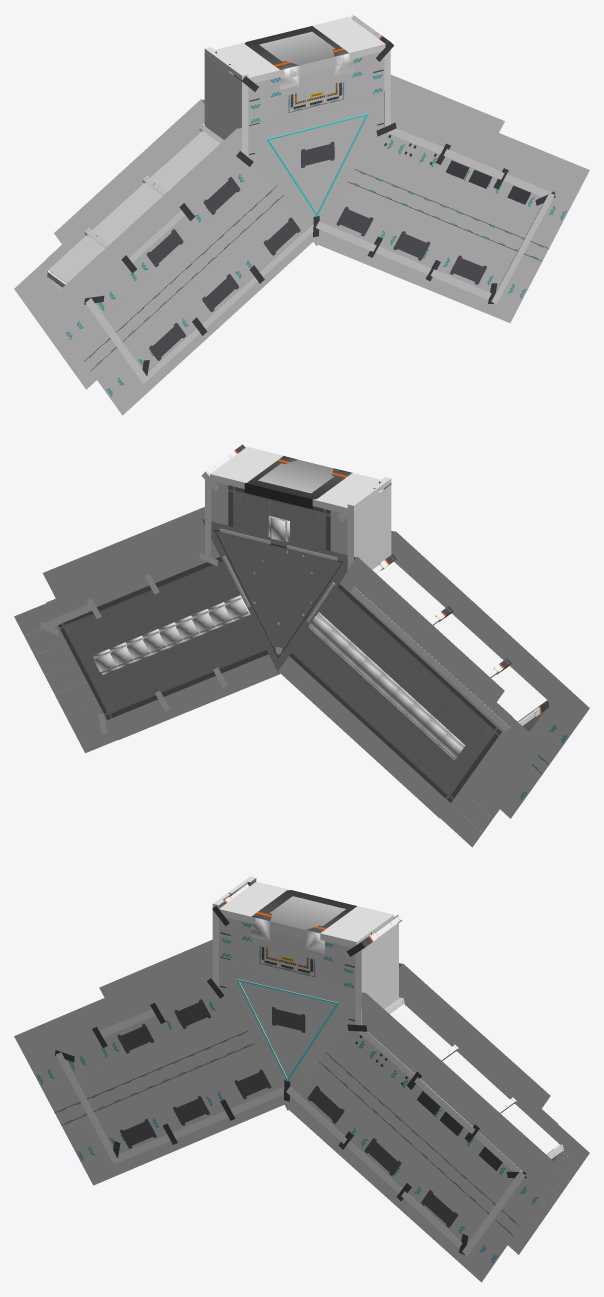
The model's file is ENV_Room1Shelves.fbx.
3 renders of one model, top to bottom at view 1: azimuth 30°, elevation 25°; view 2: azimuth 150°, elevation 25°; view 3: azimuth 330°, elevation 25°, orthographic.
Parts seen in each view (by area): view 1: Plane.039, Plane.160, Cone.002, Plane.135, Plane.137, Final Door.002, TEXTURED_WT_ExposedPanel.012, Plane.136, b.016, Plane.138, TEXTURED_WT_ExposedPanel.010, b.015 (+16 smaller); view 2: Plane.138, Plane.137, Cylinder.007, Plane.160, Plane.136, Plane.141, Plane.041, Ver3, Ver3.001, TEXTURED_WT_ExposedPanel.012, Final Door.002, b.016 (+6 smaller); view 3: Plane.039, Plane.160, Cone.002, Plane.138, Plane.135, Final Door.002, TEXTURED_WT_ExposedPanel.009, Plane.141, a.021, TEXTURED_WT_ExposedPanel.010, a.019, Plane.137 (+16 smaller).
Boxes of the visible parts, x1,y1,x2,y2 form: Plane.039: (316, 90, 589, 322); Plane.160: (43, 128, 315, 415); Cone.002: (238, 90, 395, 246); Plane.135: (248, 52, 384, 125); Plane.137: (54, 99, 204, 251); Final Door.002: (245, 26, 353, 89); TEXTURED_WT_ExposedPanel.012: (204, 47, 248, 156); Plane.136: (14, 244, 96, 389); b.016: (92, 183, 184, 262); Plane.138: (390, 74, 504, 132); TEXTURED_WT_ExposedPanel.010: (312, 16, 385, 59); b.015: (149, 131, 219, 191); Plane.138: (53, 518, 280, 733); Plane.137: (278, 556, 504, 803); Cylinder.007: (201, 519, 355, 673); Plane.160: (391, 531, 589, 818); Plane.136: (424, 702, 544, 847); Plane.141: (14, 596, 133, 753); Plane.041: (211, 482, 347, 555); Ver3: (308, 612, 465, 760); Ver3.001: (93, 595, 250, 674); TEXTURED_WT_ExposedPanel.012: (347, 477, 391, 570); Final Door.002: (244, 456, 352, 508); b.016: (408, 613, 503, 695); Plane.039: (287, 993, 561, 1282); Plane.160: (14, 954, 286, 1185); Cone.002: (209, 955, 366, 1110); Plane.138: (399, 963, 550, 1120); Plane.135: (219, 917, 355, 990); Final Door.002: (251, 890, 356, 954); TEXTURED_WT_ExposedPanel.009: (355, 922, 398, 1025); Plane.141: (508, 1109, 589, 1254); a.021: (414, 1051, 509, 1133); TEXTURED_WT_ExposedPanel.010: (320, 906, 393, 947); a.019: (358, 1004, 451, 1078); Plane.137: (99, 939, 212, 997).
Bounding box in the file's own units: 12817 × 7013 × 1596.
101 materials, 92 textured.
